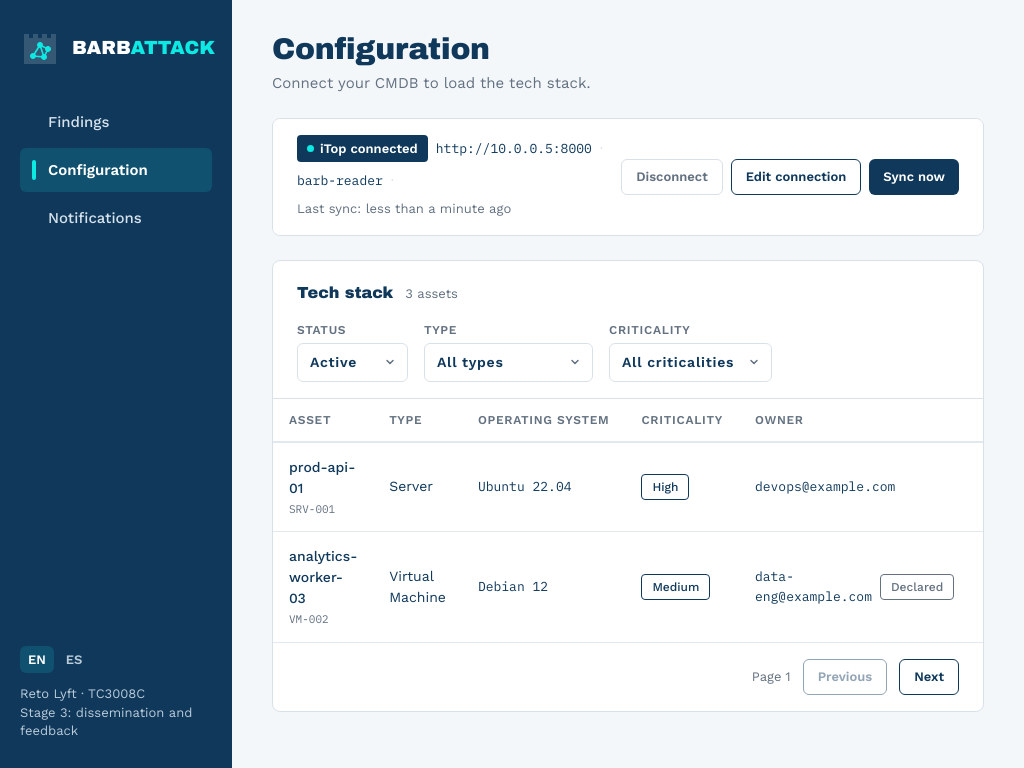
it: Tech stack › pages forward and back repeating the filters on every request
The width and height of the screenshot is (1024, 768).
Expected: the text "iTop connected" is shown, [297,134,428,162]
Expected: the row "prod-api-01" is shown, [273,442,983,532]
Select "Server" in the dropdown labelled "Type" at (508, 362), box [424,342,593,382]
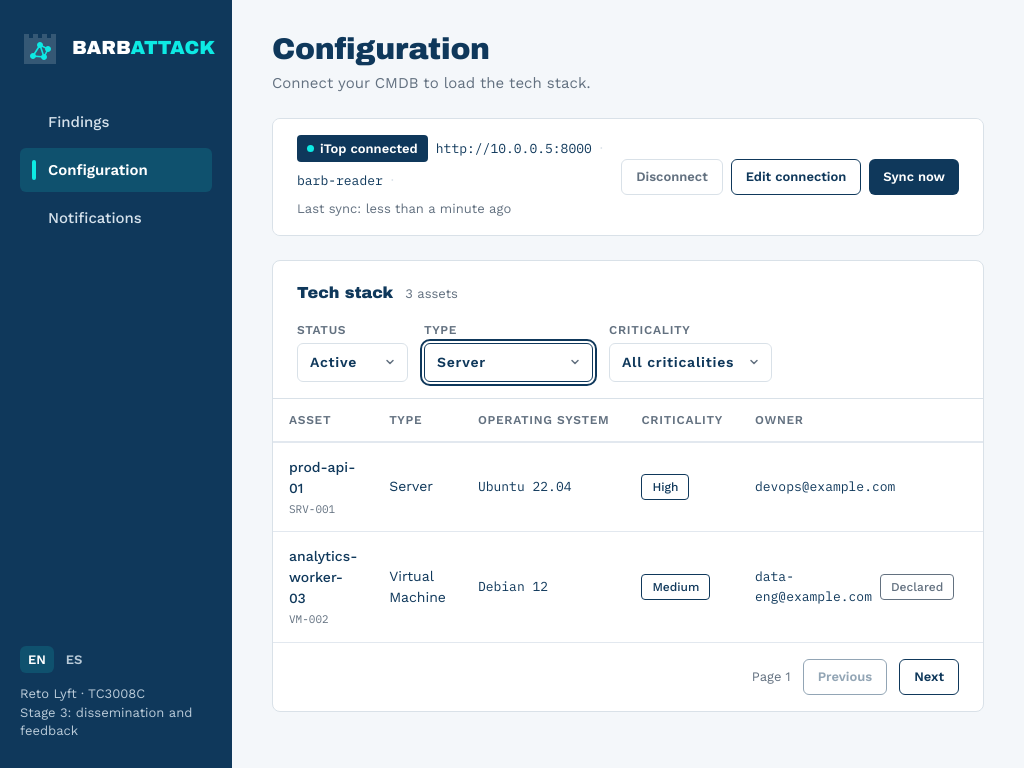
Click the button "Next" at (929, 676), box [899,658,959,694]
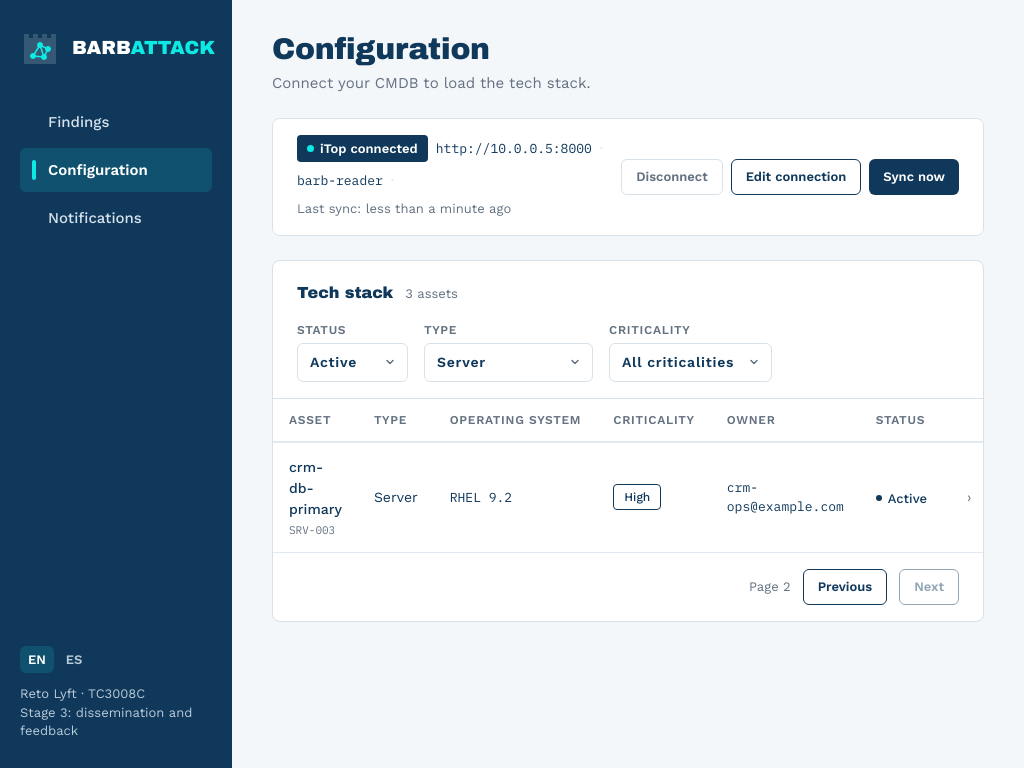
Result: the row "crm-db-primary" is shown at [273,442,983,552]
Result: the text "Page 2" is shown at [749,577,791,597]
Click the button "Previous" at (845, 587), box [803,569,887,605]
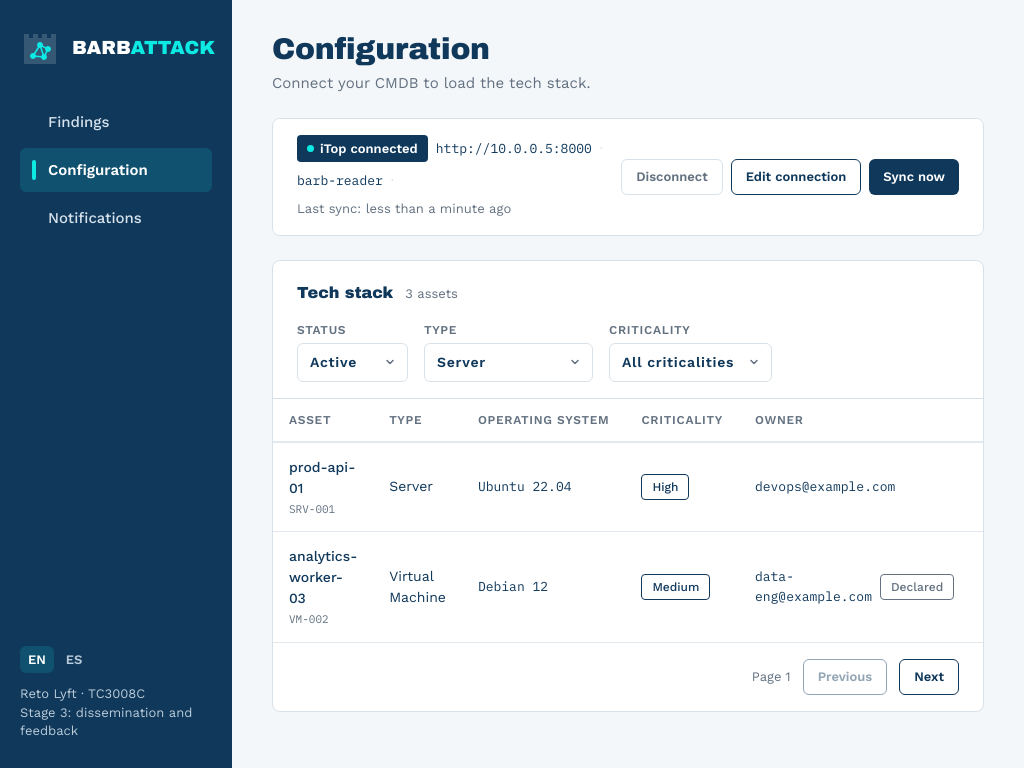
Result: the row "prod-api-01" is shown at [273,442,983,532]
Result: the text "Page 1" is shown at [752,667,791,686]
